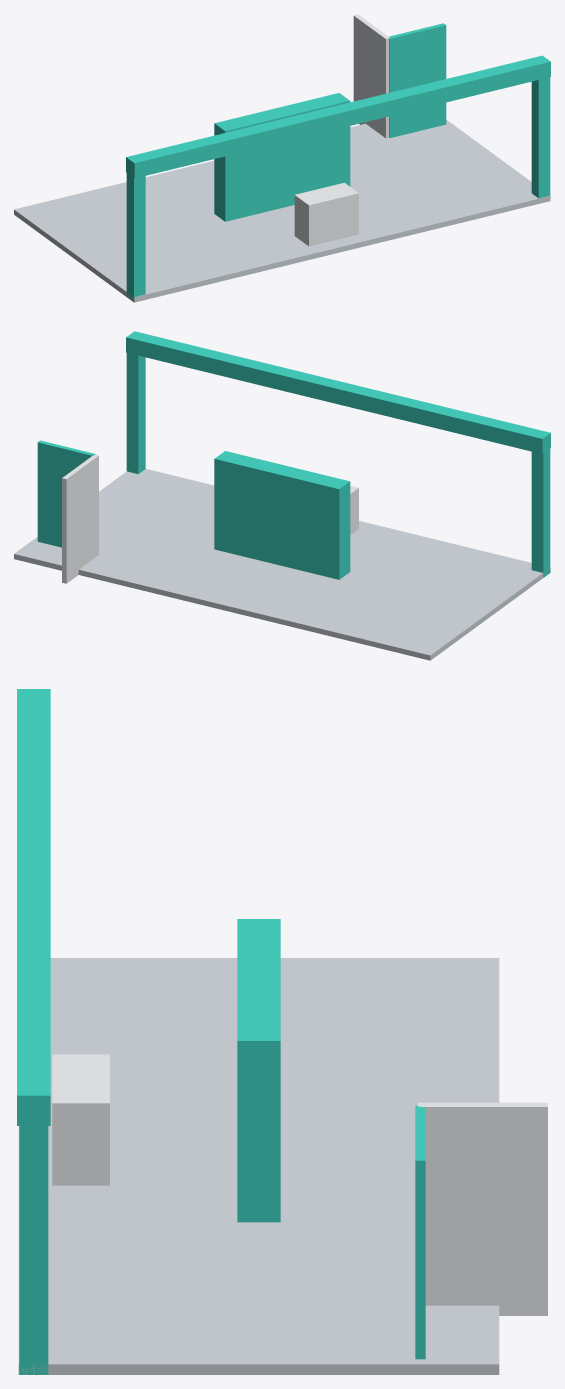
3 renders of one model, top to bottom at view 1: azimuth 30°, elevation 25°; view 2: azimuth 150°, elevation 25°; view 3: azimuth 270°, elevation 25°, orthographic. The views are drawn at different scales.
Parts seen in each view (by area): view 1: Exhibition Booth Concept; view 2: Exhibition Booth Concept; view 3: Exhibition Booth Concept.
Boxes of the visible parts, x1,y1,x2,y2 form: Exhibition Booth Concept: (14,14,550,302); Exhibition Booth Concept: (14,331,550,660); Exhibition Booth Concept: (17,689,547,1374).
Size of the model in its own units: 10 by 3.2 by 5.52.
